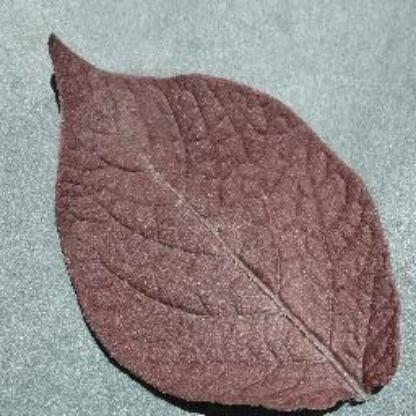Healthy-plant: (32, 30, 406, 410)
